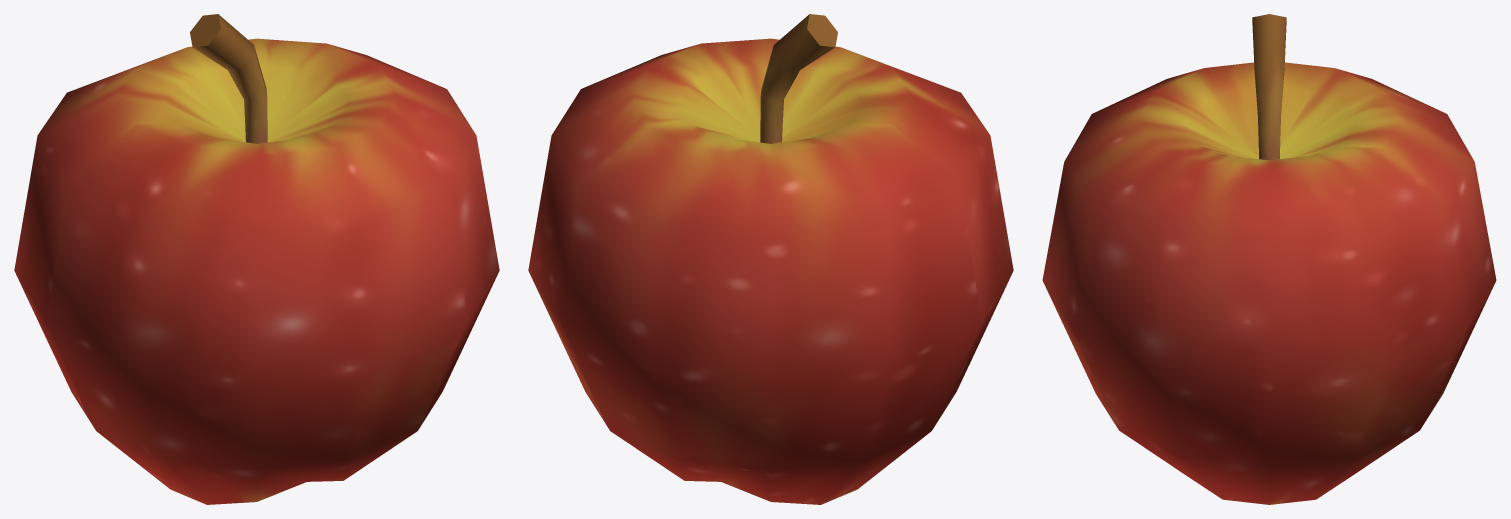
Rendered from Apple.FBX.
3 renders of one model, left to right at view 1: azimuth 30°, elevation 25°; view 2: azimuth 150°, elevation 25°; view 3: azimuth 270°, elevation 25°, orthographic. The views are drawn at different scales.
Visible parts, largest first — view 1: Apple; view 2: Apple; view 3: Apple.
Boxes of the visible parts, x1,y1,x2,y2 form: Apple: [14, 14, 499, 504]; Apple: [528, 14, 1013, 504]; Apple: [1042, 14, 1496, 504].
Size of what is drawn, in the model's own units: 18.83 by 18.83 by 19.85.
